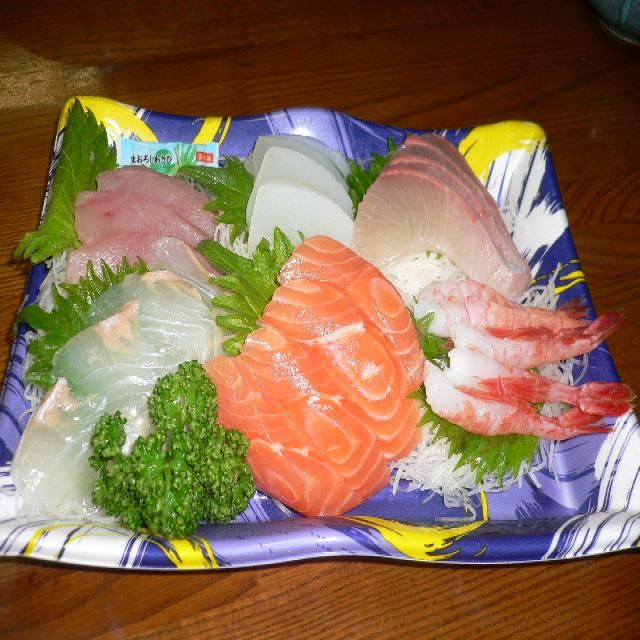刺身生食: (0, 60, 640, 597)
